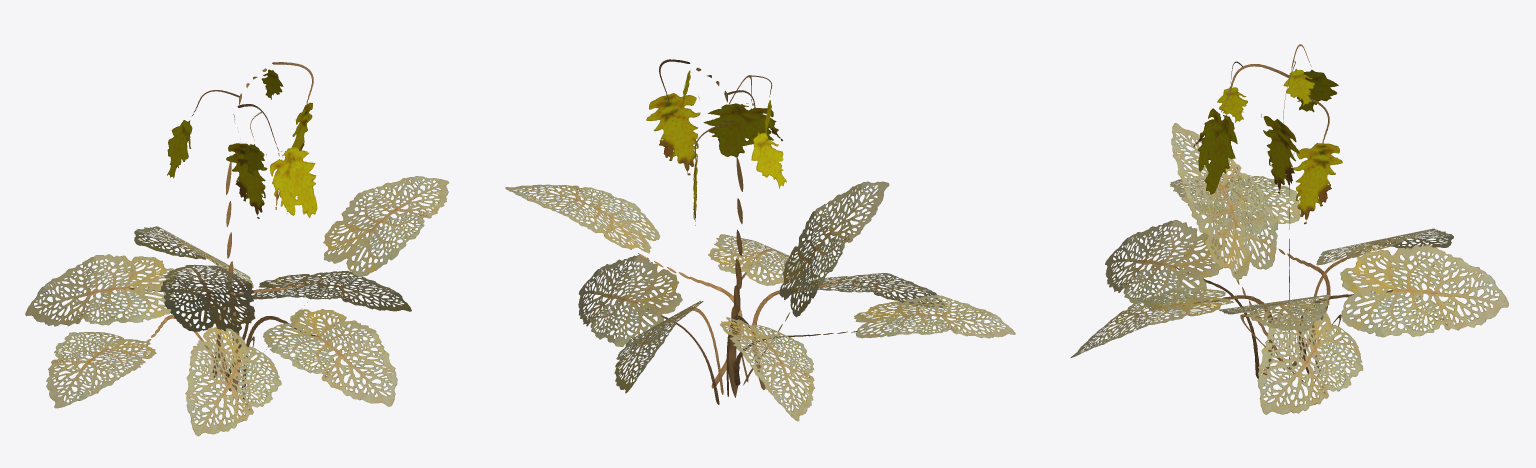
The model's file is Spin Reef A5.fbx.
3 renders of one model, left to right at view 1: azimuth 30°, elevation 25°; view 2: azimuth 150°, elevation 25°; view 3: azimuth 270°, elevation 25°, orthographic. The views are drawn at different scales.
Visible parts, largest first — view 1: Spin Reef A5; view 2: Spin Reef A5; view 3: Spin Reef A5.
Boxes of the visible parts, left/top/right/bottom form: Spin Reef A5: left=25, top=62, right=449, bottom=436; Spin Reef A5: left=505, top=59, right=1015, bottom=421; Spin Reef A5: left=1070, top=44, right=1508, bottom=414.
Bounding box in the file's own units: 242 × 207 × 190.
